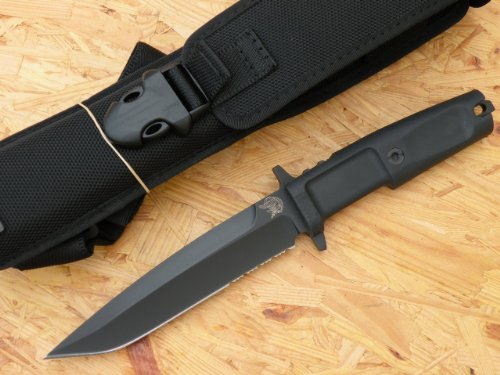knife: (39, 162, 332, 363)
